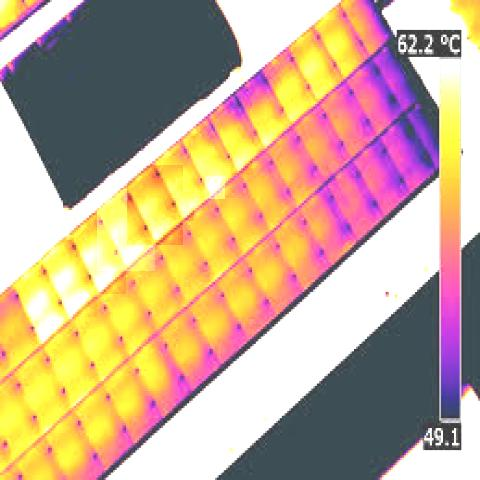fault: (13, 261, 70, 346), (98, 189, 156, 271), (69, 213, 126, 294), (42, 236, 98, 317), (127, 165, 183, 245), (176, 192, 194, 221), (231, 152, 253, 175), (205, 176, 225, 199)
